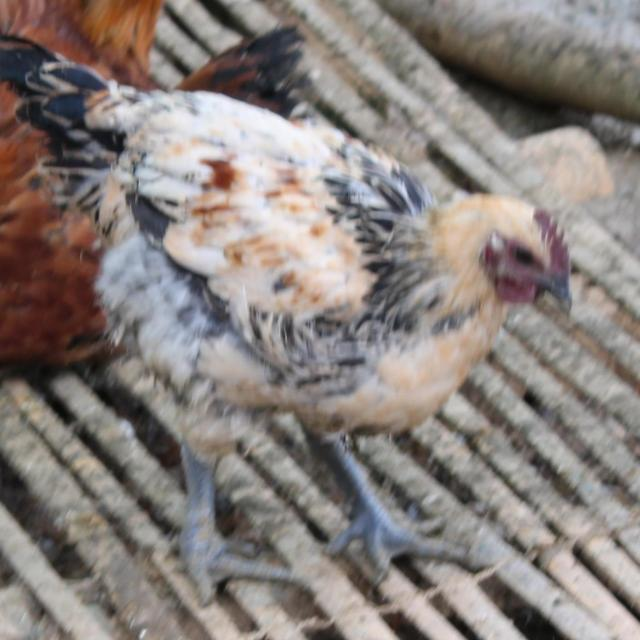hen: (0, 37, 570, 601)
